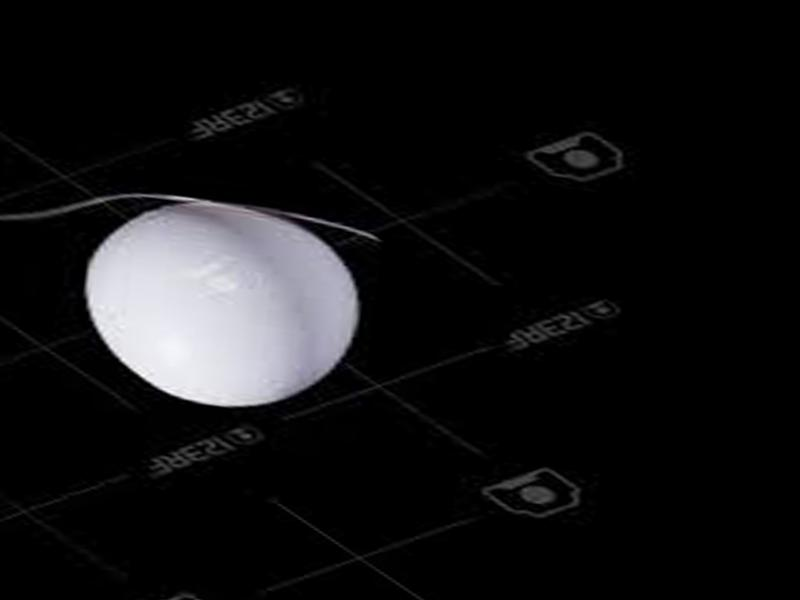Eggs: (72, 187, 370, 419)
